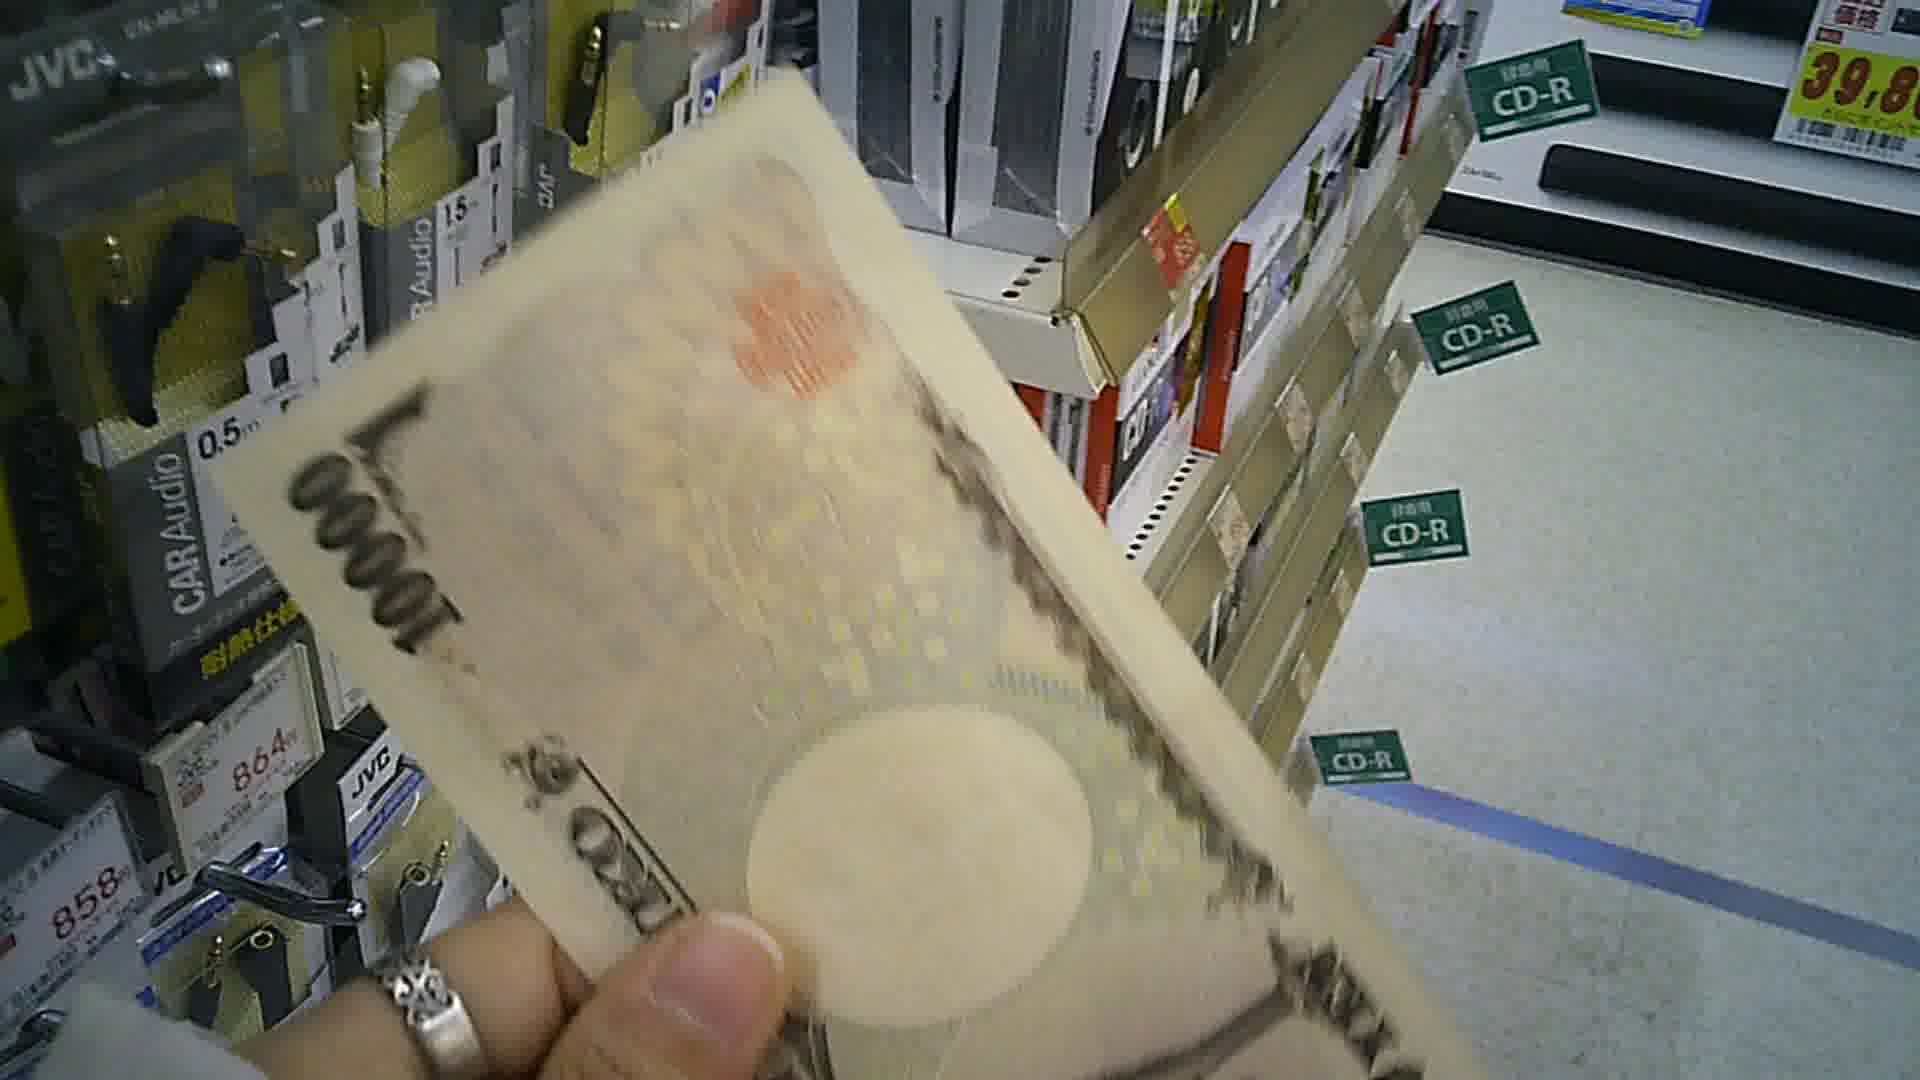10,000 Yen: (191, 87, 1503, 1079)
